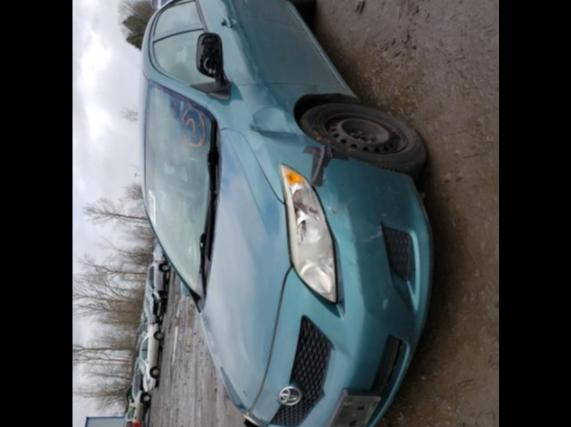Dent: (249, 104, 320, 146), (279, 83, 341, 115)
Missing part: (330, 395, 378, 427), (244, 420, 266, 427)
Paint chip: (302, 141, 348, 187), (242, 389, 248, 398), (330, 207, 336, 214), (340, 182, 345, 187)
Scratch: (402, 174, 429, 221), (327, 190, 338, 217), (321, 166, 328, 191)
